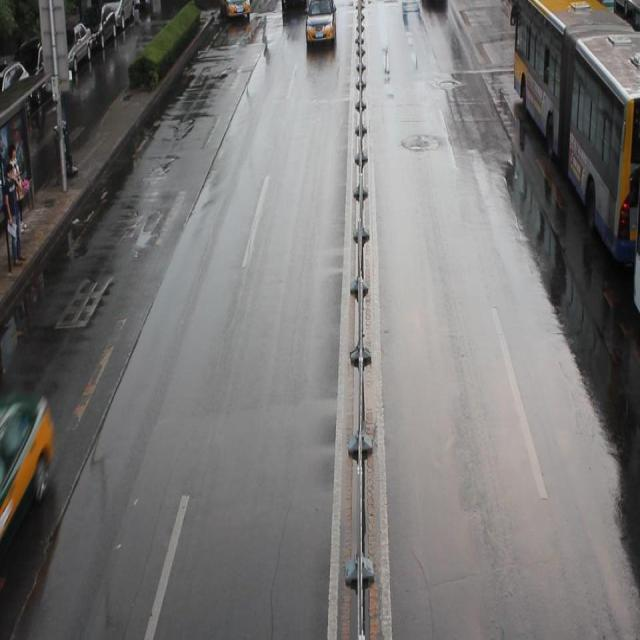car: (1, 393, 53, 549), (304, 2, 336, 48), (222, 1, 252, 24)
truck: (280, 1, 306, 18)
van: (513, 1, 640, 266), (630, 199, 640, 314)
